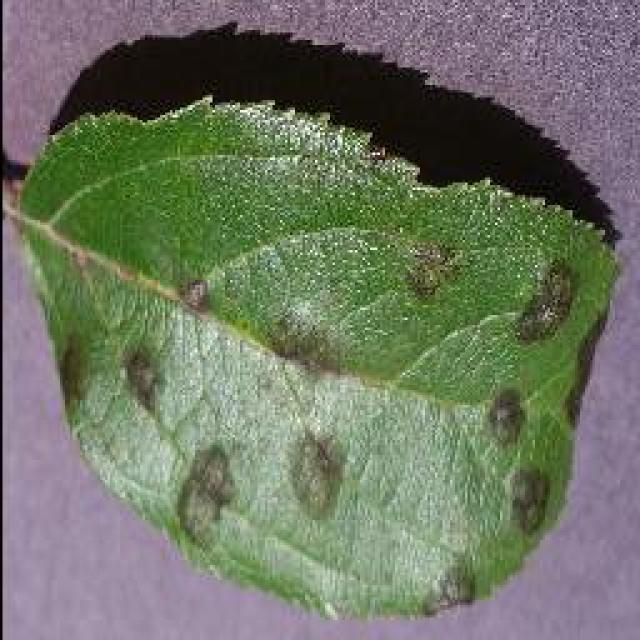apple scab disease: (2, 20, 622, 625)
